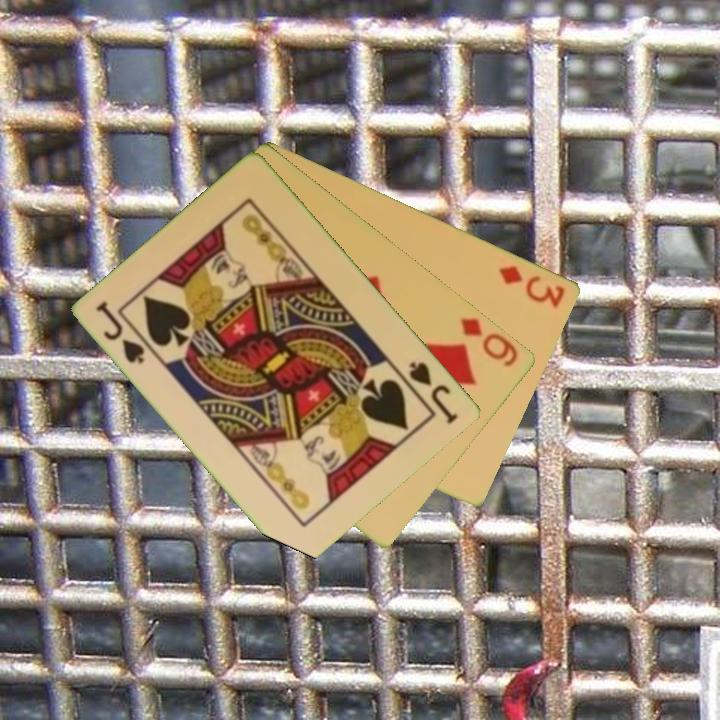3d: (495, 261, 569, 311)
6d: (457, 314, 522, 370)
Js: (406, 358, 462, 427), (93, 297, 148, 367)
